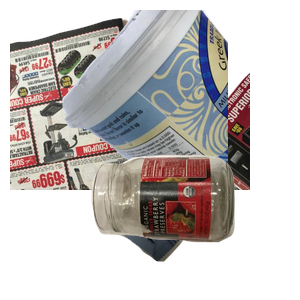glass: (89, 153, 300, 300)
paper: (10, 15, 250, 195)
plastic: (60, 10, 300, 190)
trash: (95, 157, 282, 300)
